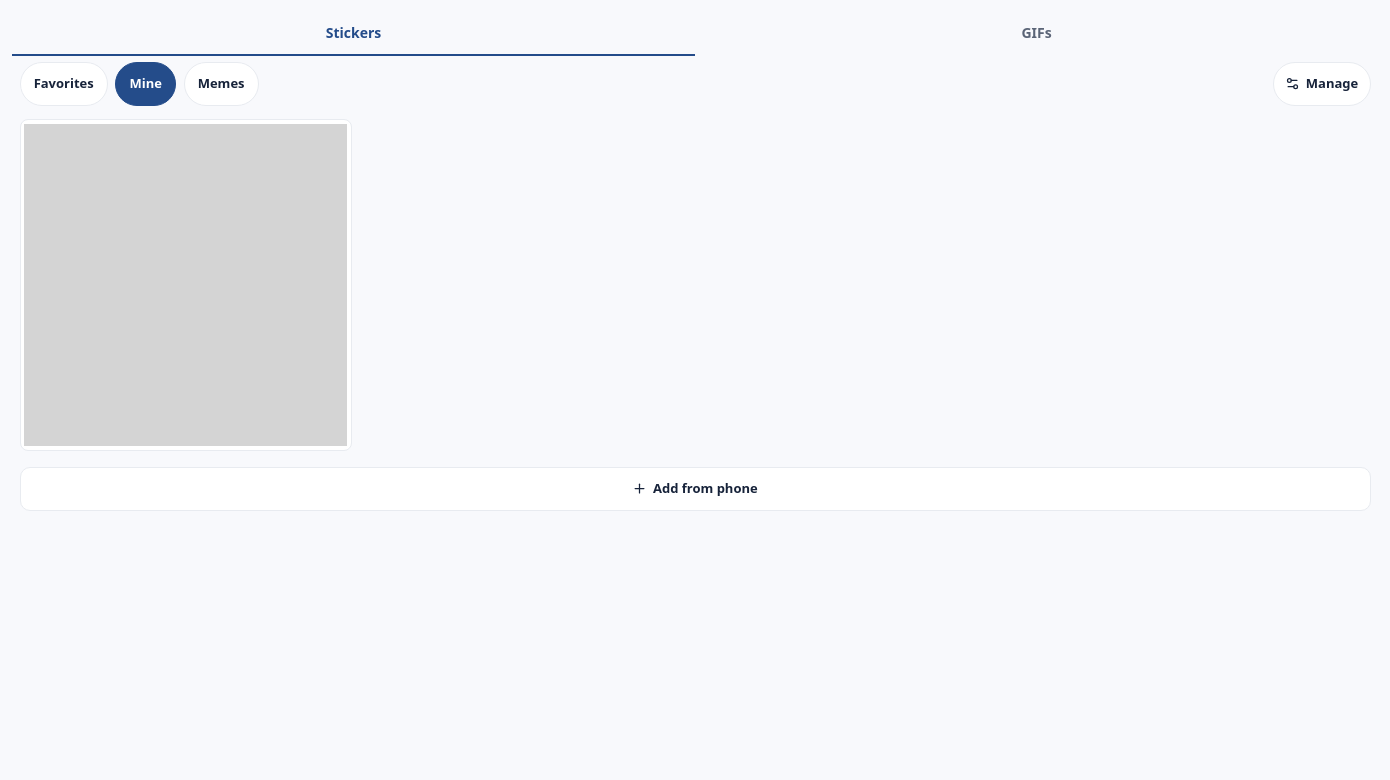
Scenario: PickerPanel › sends the key of a bundled sticker, remembers it as recent on this device, and shows Recent next time
This screenshot has width=1390, height=780.
Click the radio button labelled "Memes". click: [221, 84]
box: [184,62,259,106]
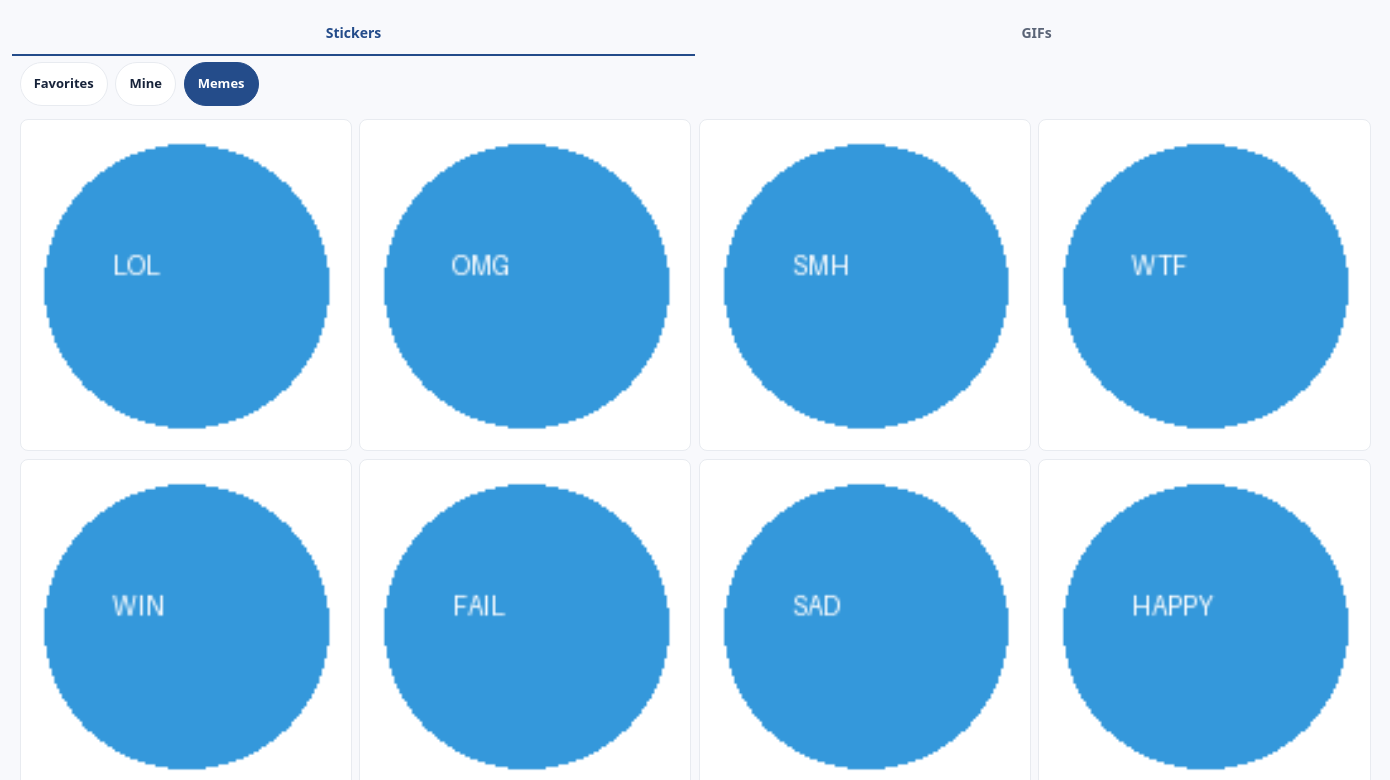
Click the button named "Send LOL". click: [186, 285]
box: [20,119,352,451]
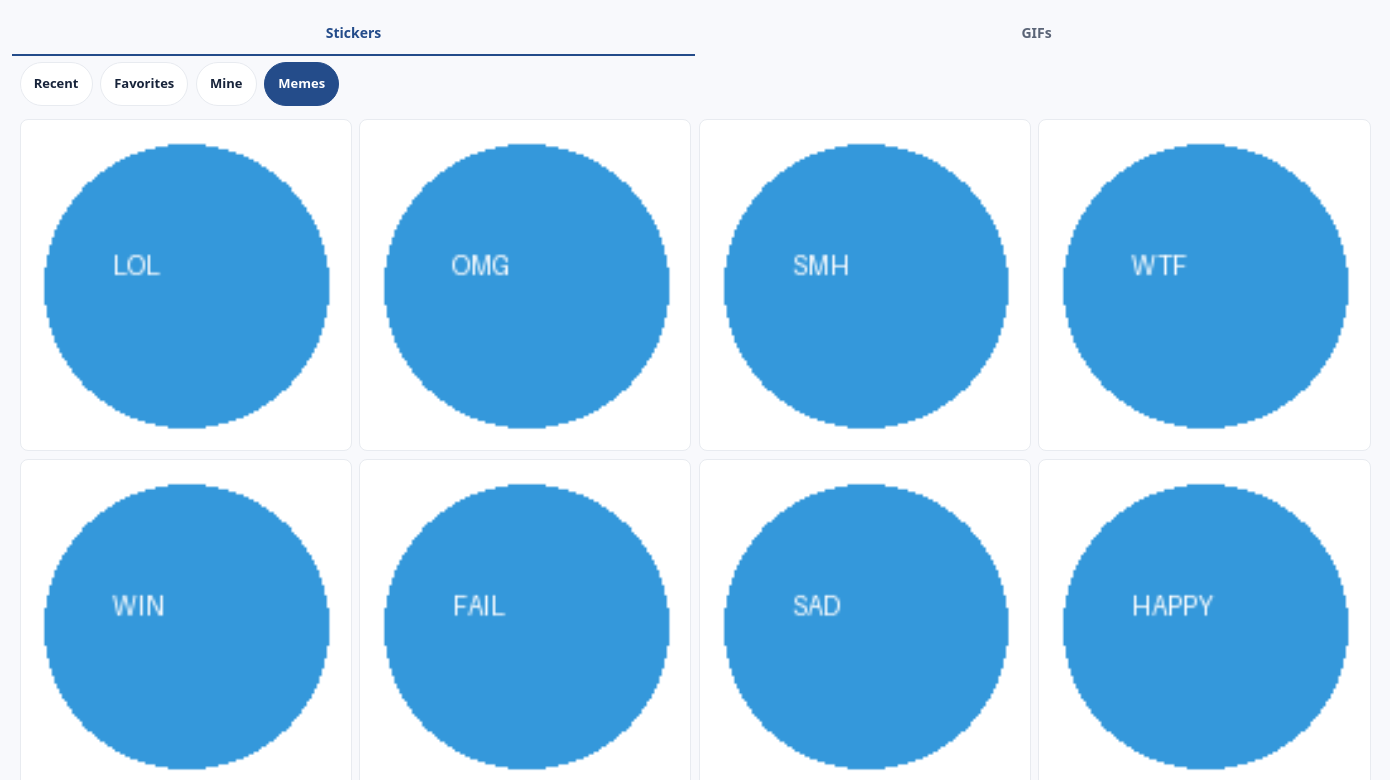
Expected: the radio button labelled "Recent" is shown, [20,62,93,106]
